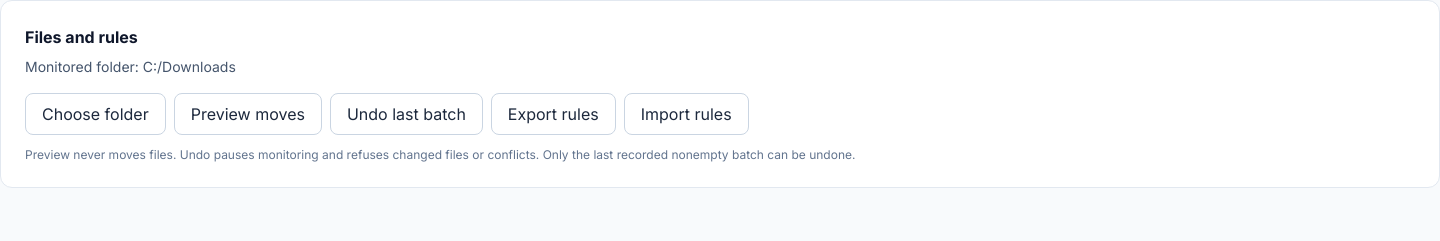
Test: FileTools › exports to the native save-dialog destination
This screenshot has width=1440, height=241.
Click the button "Export rules".
click(553, 114)  # box left=491, top=93, right=616, bottom=135
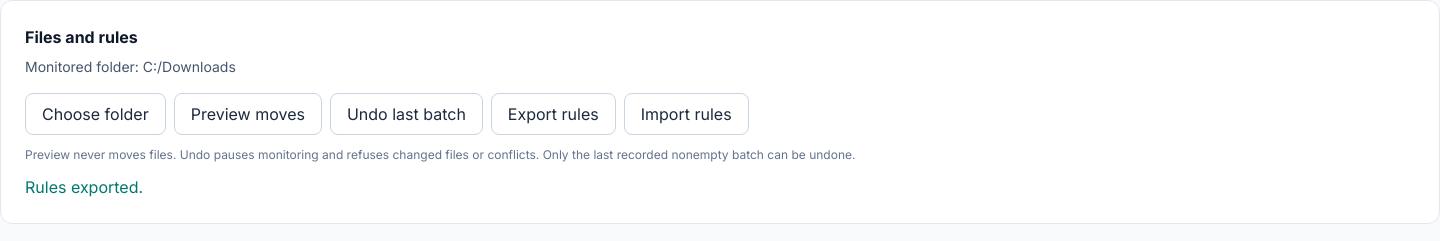
Check: the message shows "Rules exported", box left=25, top=177, right=143, bottom=197
